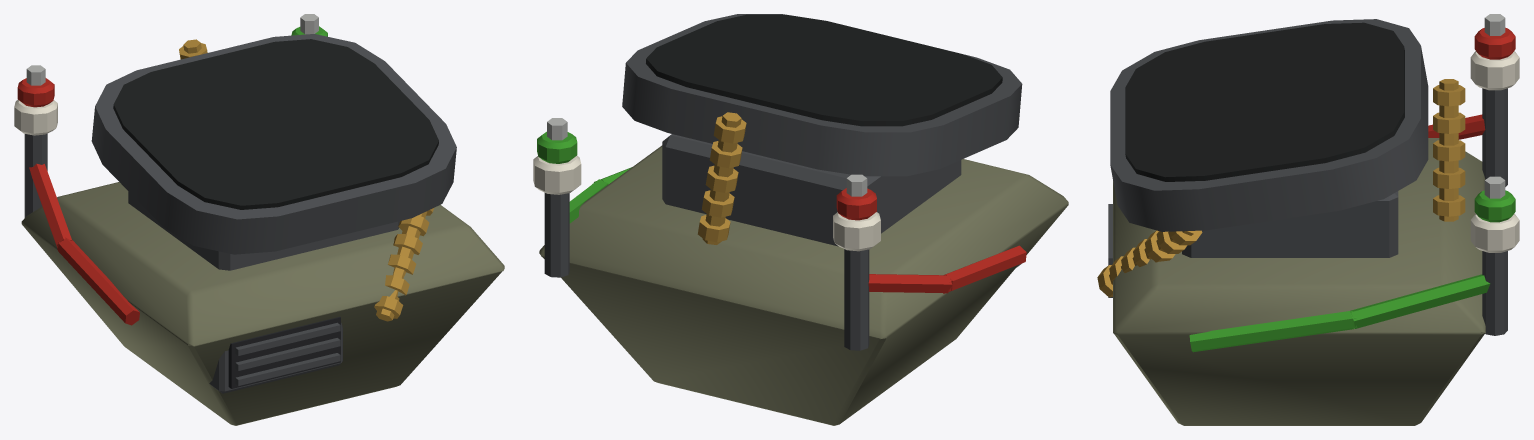
File: display-panel.glb
The picture shows the model from 3 angles, left to right: view 1: azimuth 30°, elevation 25°; view 2: azimuth 150°, elevation 25°; view 3: azimuth 270°, elevation 25°; orthographic projection. The views are drawn at different scales.
Parts seen in each view (by area): view 1: body; view 2: body; view 3: body.
Part boxes in pixels (left/top/right/bottom): body: left=14, top=14, right=504, bottom=425; body: left=533, top=14, right=1068, bottom=425; body: left=1097, top=14, right=1519, bottom=425.
Bounding box in the file's own units: 0.9318 × 0.7249 × 0.9172.
